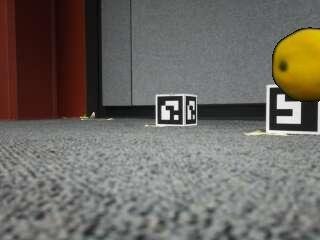lemon: (274, 29, 320, 101)
